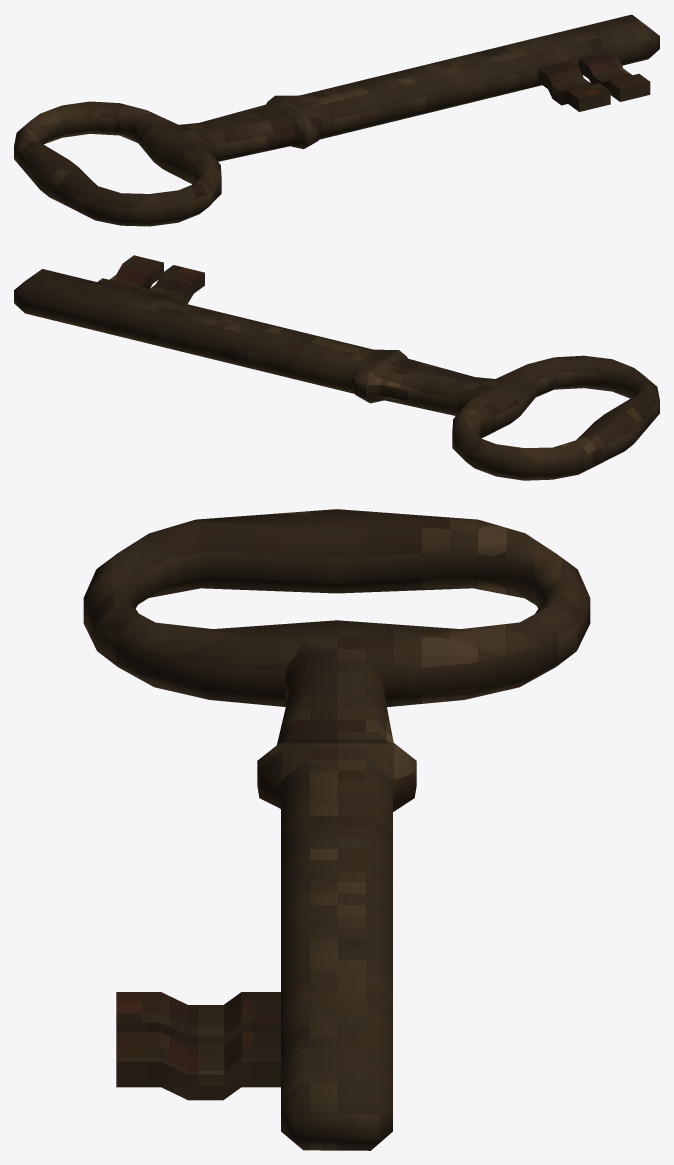
Rendered from key_mp_3_1.glb.
3 views of the same model, one above another, from view 1: azimuth 30°, elevation 25°; view 2: azimuth 150°, elevation 25°; view 3: azimuth 270°, elevation 25° (orthographic). The views are drawn at different scales.
Parts seen in each view (by area): view 1: key_mp_3_1; view 2: key_mp_3_1; view 3: key_mp_3_1.
Boxes of the visible parts, box(x1,y1,x2,y2) form: key_mp_3_1: box(14, 14, 659, 226); key_mp_3_1: box(14, 255, 659, 480); key_mp_3_1: box(83, 509, 590, 1150).
Bounding box in the file's own units: 0.1428 × 0.00726 × 0.0514.
Materials: 1 (1 with a texture image).
